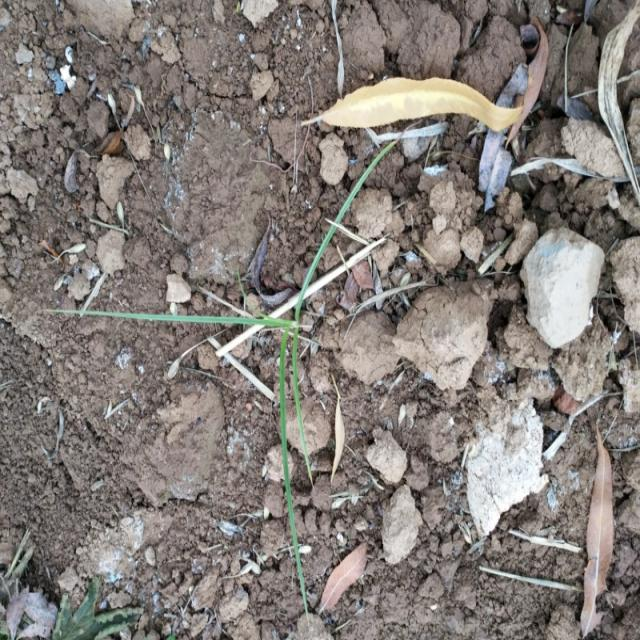sedge: (70, 212, 370, 547)
